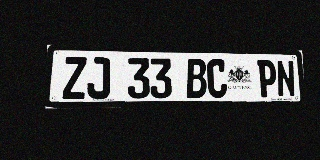3: (128, 58, 150, 99), (150, 58, 172, 98)
B: (186, 59, 207, 98)
C: (207, 59, 227, 98)
J: (87, 57, 110, 99)
N: (276, 60, 296, 97)
P: (257, 60, 277, 97)
Z: (62, 57, 87, 99)
